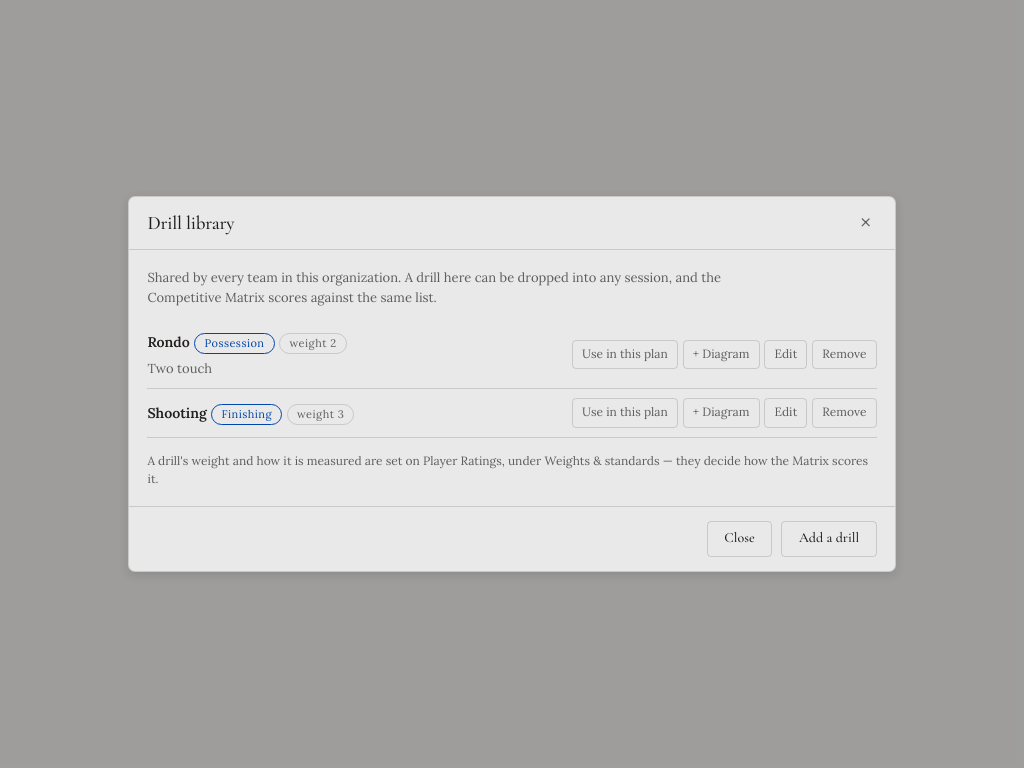
Test: adding a drill › will not save a drill with no name
This screenshot has width=1024, height=768.
Click the button "Add a drill" at (829, 539), box [781,521,877,557]
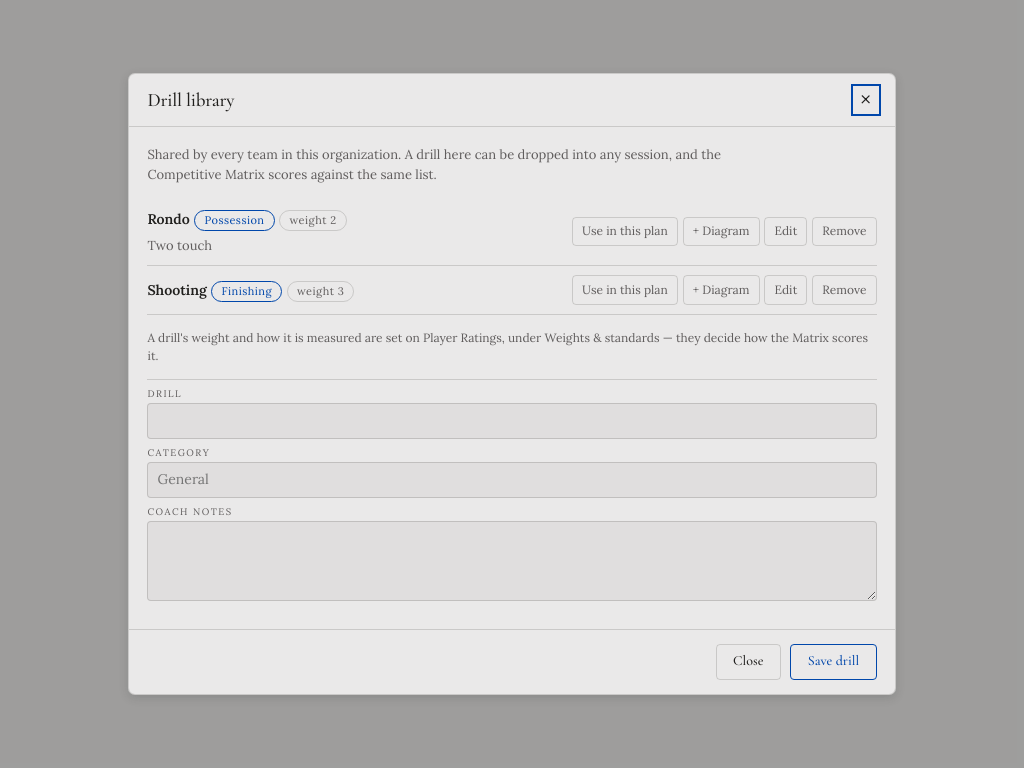
Click the button "Save drill" at (834, 662), box [790,644,877,680]
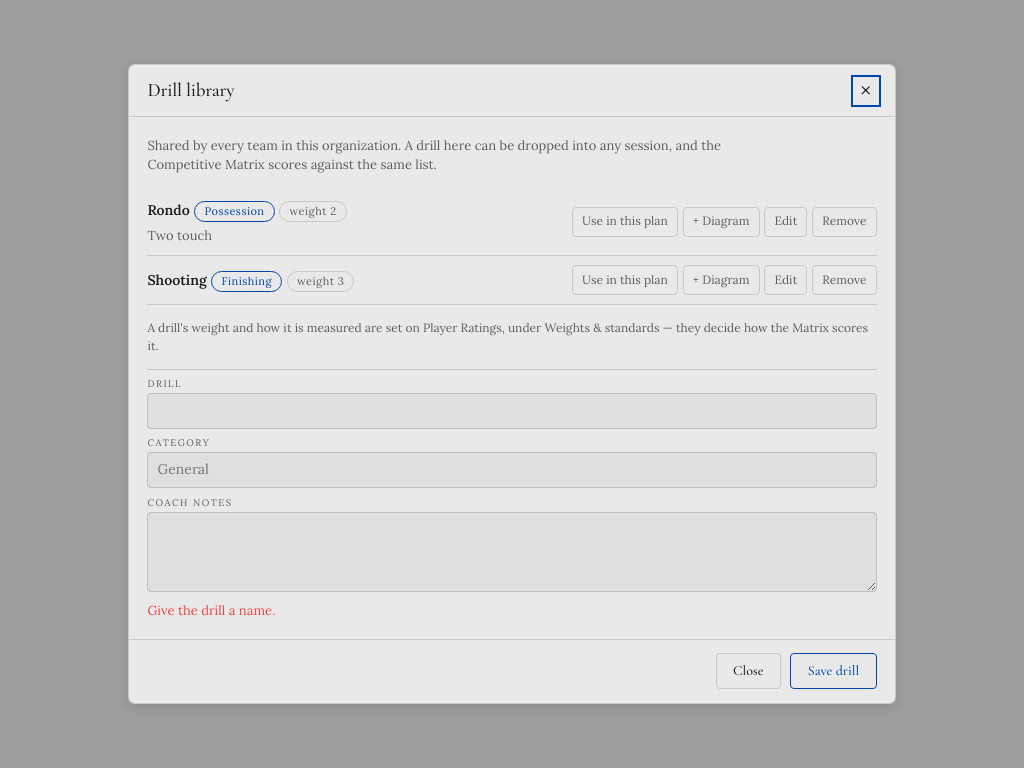
expect the message "Give the drill a name." is shown: met, box [147,602,275,619]
